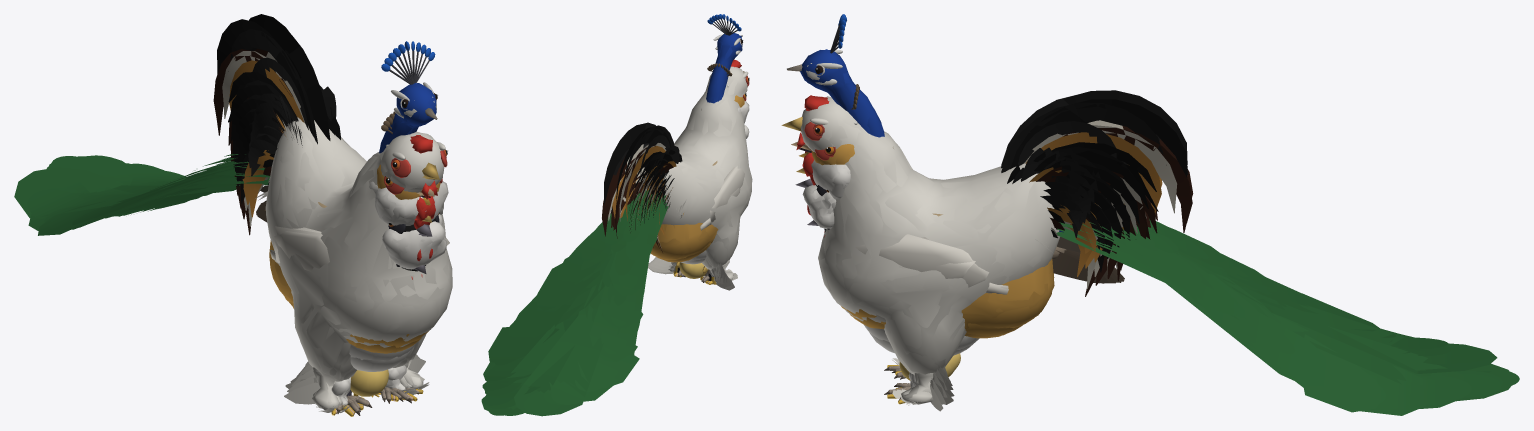
Rendered from flock.glb.
3 renders of one model, left to right at view 1: azimuth 30°, elevation 25°; view 2: azimuth 150°, elevation 25°; view 3: azimuth 270°, elevation 25°, orthographic. The views are drawn at different scales.
Visible parts, largest first — view 1: bra_r, bra_r_lo, pea_r, pea_r_lo, pol_r, aya_r, orp_r, pol_h, pol_r_lo, orp_r_lo, aya_r_lo, rir_r (+10 smaller); view 2: pea_r_lo, pea_r, bra_r, bra_r_lo, orp_r, aya_r, rir_r, orp_r_lo, pol_r, rir_r_lo, aya_r_lo, leg_r (+4 smaller); view 3: bra_r, pea_r_lo, bra_r_lo, pea_r, aya_r, orp_r, pol_r, orp_r_lo, aya_r_lo, rir_r, pol_r_lo, rir_r_lo (+4 smaller).
Boxes of the visible parts, x1,y1,x2,y2 form: bra_r: (248,57,452,416); bra_r_lo: (251,60,452,409); pea_r: (25,41,438,415); pea_r_lo: (14,83,435,409); pol_r: (230,29,447,261); aya_r: (217,14,430,220); orp_r: (229,60,442,414); pol_h: (382,214,446,279); pol_r_lo: (228,33,448,236); orp_r_lo: (229,66,440,347); aya_r_lo: (217,24,429,203); rir_r: (213,48,430,411); pea_r_lo: (482,35,742,416); pea_r: (481,14,743,415); bra_r: (640,59,751,290); bra_r_lo: (640,61,752,287); orp_r: (612,93,746,284); aya_r: (604,123,711,280); rir_r: (602,145,707,282); orp_r_lo: (613,95,744,259); pol_r: (614,101,749,208); rir_r_lo: (604,153,663,252); aya_r_lo: (604,130,709,280); leg_r: (608,109,708,283); bra_r: (781,95,1116,411); pea_r_lo: (800,49,1516,415); bra_r_lo: (794,96,1116,404); pea_r: (787,14,1519,408); aya_r: (798,90,1187,258); orp_r: (791,132,1162,394); pol_r: (795,96,1163,251); orp_r_lo: (803,136,1161,330); aya_r_lo: (1013,104,1188,272); rir_r: (799,126,1193,285); pol_r_lo: (803,106,1166,266); rir_r_lo: (810,133,1191,296).
Bounding box in the file's own units: 0.5246 × 0.9007 × 1.63.
